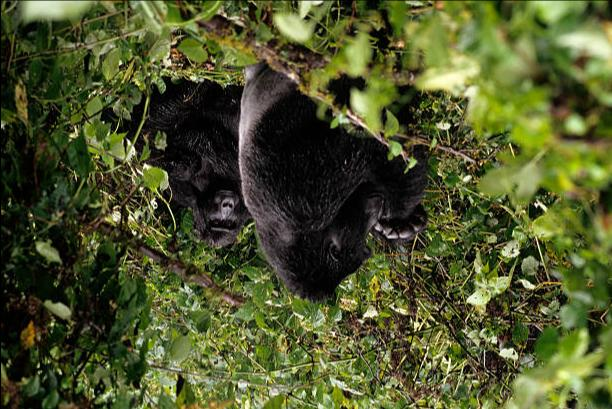goriile_montagne: (230, 40, 433, 309), (111, 74, 260, 298)
